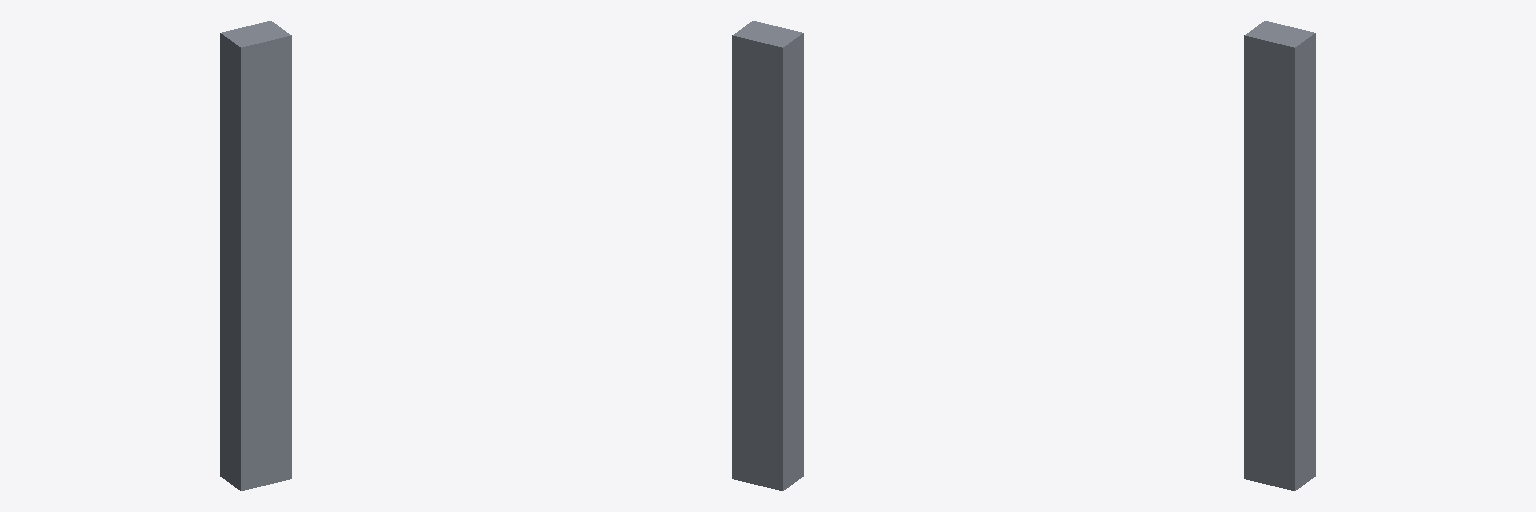
robot.urdf — artmanip_knife_000:
<?xml version='1.0' encoding='utf-8'?>
<robot name="artmanip_knife_000"><link name="link_0"><inertial><mass value="0.027946016285946968" /><inertia ixx="4.326444061900371e-05" iyy="4.3576467717831334e-05" izz="9.115882594776688e-07" ixy="0" ixz="0" iyz="0" /></inertial><visual><geometry><box size="0.016208324801260752 0.01134572929160221 0.13582707832096505" /></geometry><material name="link_0_color"><color rgba=".58 .60 .64 1" /></material></visual><collision><geometry><box size="0.016208324801260752 0.01134572929160221 0.13582707832096505" /></geometry></collision></link><link name="link_1"><inertial><mass value="0.006" /><inertia ixx="4.545e-07" iyy="5e-07" izz="5.45e-08" ixy="0" ixz="0" iyz="0" /></inertial><visual><geometry><mesh filename="slider-shoulder.obj" /></geometry><material name="link_1_color"><color rgba=".12 .13 .15 1" /></material></visual><collision><geometry><mesh filename="slider-shoulder.obj" /></geometry></collision></link><joint name="slider" type="prismatic"><parent link="link_0" /><child link="link_1" /><origin xyz="0.00047828627084064925 0.008049221491515815 0.00684834524495696" /><axis xyz="0 0 1" /><limit lower="-0.03267458688196273" upper="0.017325413118037272" effort="100" velocity="1" /><dynamics damping="1000" friction="0.001" /></joint></robot>

--- Render facts (derived) ---
Views: 3 orthographic renders of the robot side by side, from view 1: azimuth 30°, elevation 25°; view 2: azimuth 150°, elevation 25°; view 3: azimuth 330°, elevation 25°.
Robot: artmanip_knife_000 — 2 links, 1 joints (1 prismatic); root link link_0; default pose: all joints at 0.
Visible links, largest first — view 1: link_0; view 2: link_0; view 3: link_0.
Boxes of the visible links, x1,y1,x2,y2 form: link_0: (220,21,291,490); link_0: (732,21,803,490); link_0: (1244,21,1315,490).
Size in the robot's own frame: 0.0162 by 0.0113 by 0.1358 metres.
0 mesh visuals loaded from 1 distinct referenced files (none loaded); not drawn: 1 (reference not matched to a file when rendering).
